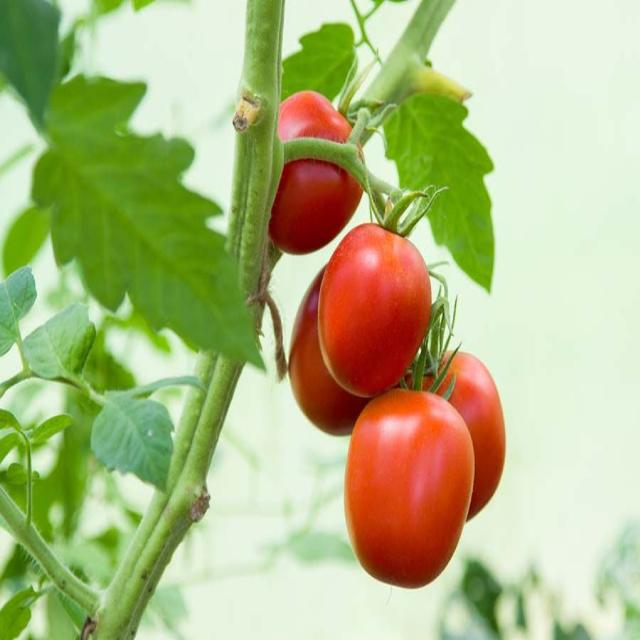level 6: (343, 384, 472, 591), (401, 336, 505, 520), (320, 220, 426, 396), (293, 261, 395, 427), (266, 94, 366, 250)
